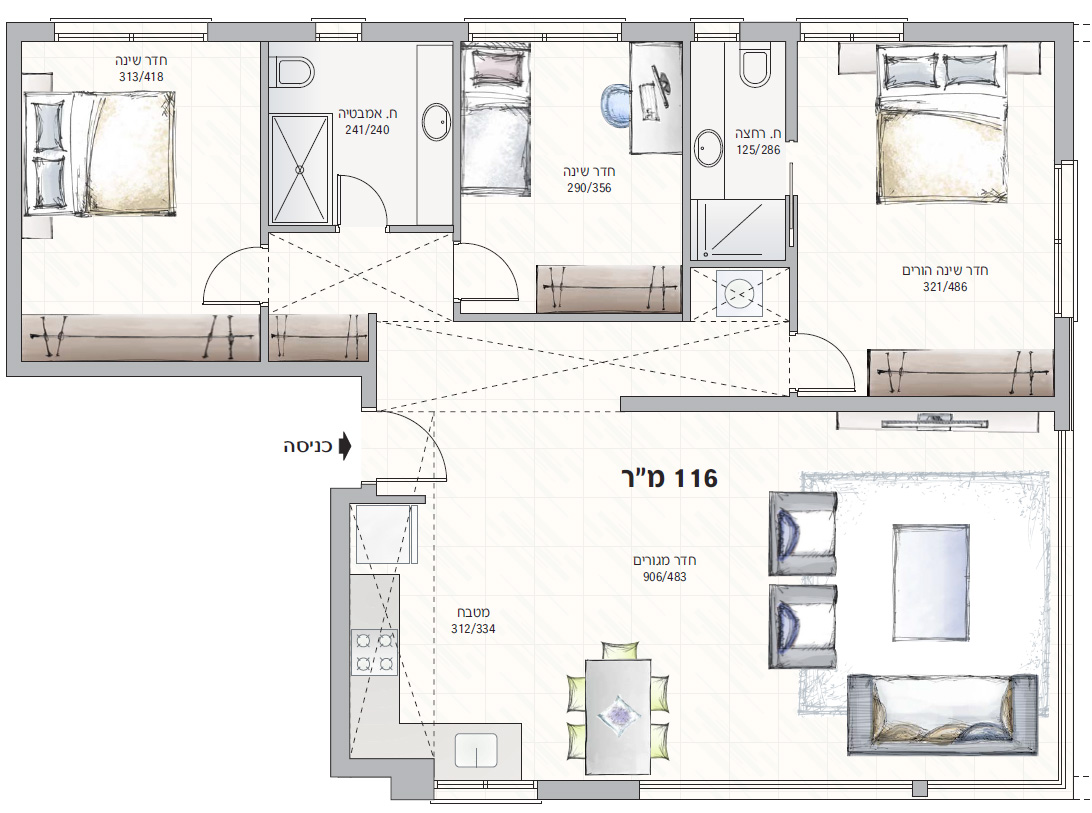door: (380, 406, 452, 485), (197, 243, 261, 312), (461, 238, 519, 306), (799, 327, 857, 395), (333, 168, 389, 224)
wall: (621, 396, 1068, 412), (5, 21, 20, 376), (331, 488, 349, 777), (904, 21, 1072, 42), (1054, 22, 1074, 159), (683, 40, 691, 323), (207, 22, 315, 41), (454, 313, 691, 321), (1055, 320, 1068, 430)
window: (55, 19, 207, 43), (469, 19, 621, 43), (1055, 165, 1076, 317), (799, 18, 903, 43), (434, 779, 539, 798), (693, 19, 739, 43), (315, 20, 361, 43)
